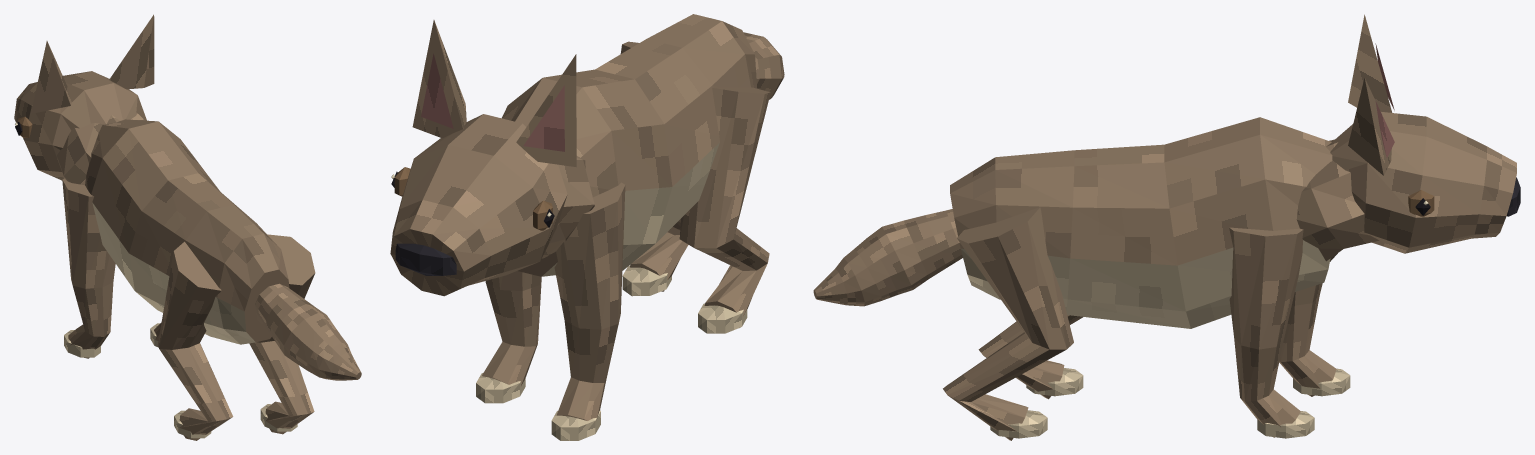
File: mon_coyote_pup.glb
3 views of the same model, side by side, from view 1: azimuth 30°, elevation 25°; view 2: azimuth 150°, elevation 25°; view 3: azimuth 270°, elevation 25° (orthographic). The views are drawn at different scales.
Parts seen in each view (by area): view 1: closed_body; view 2: closed_body; view 3: closed_body.
Part boxes in pixels (bbox=[...]): closed_body: bbox=[14, 14, 361, 440]; closed_body: bbox=[390, 14, 784, 440]; closed_body: bbox=[813, 14, 1520, 440].
Bounding box in the file's own units: 0.1063 × 0.2538 × 0.4356.
Materials: 1 (1 with a texture image).
